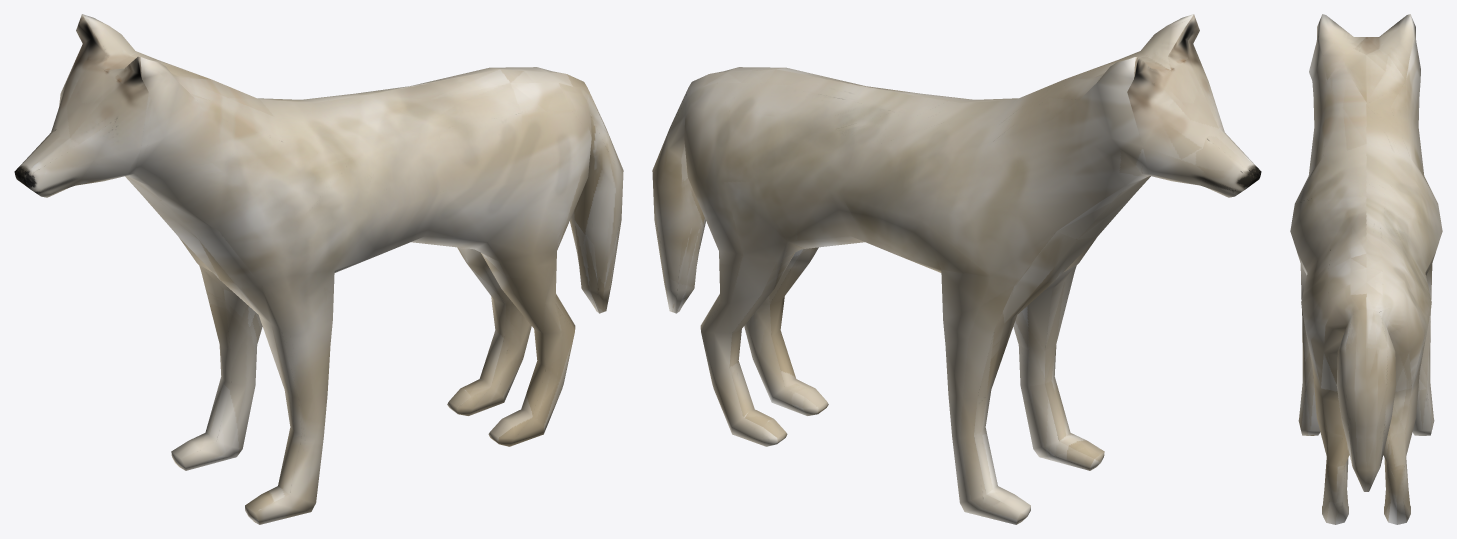
File: wolfe.obj
The picture shows the model from 3 angles, left to right: view 1: azimuth 30°, elevation 25°; view 2: azimuth 150°, elevation 25°; view 3: azimuth 270°, elevation 25°; orthographic projection. The views are drawn at different scales.
Parts seen in each view (by area): view 1: Wolfe_Cube.001; view 2: Wolfe_Cube.001; view 3: Wolfe_Cube.001.
Boxes of the visible parts, bbox=[...] form: Wolfe_Cube.001: bbox=[14, 14, 623, 524]; Wolfe_Cube.001: bbox=[652, 14, 1261, 524]; Wolfe_Cube.001: bbox=[1290, 14, 1442, 524].
Bounding box in the file's own units: 6.64 × 5.12 × 1.94.
1 material, 1 textured.
